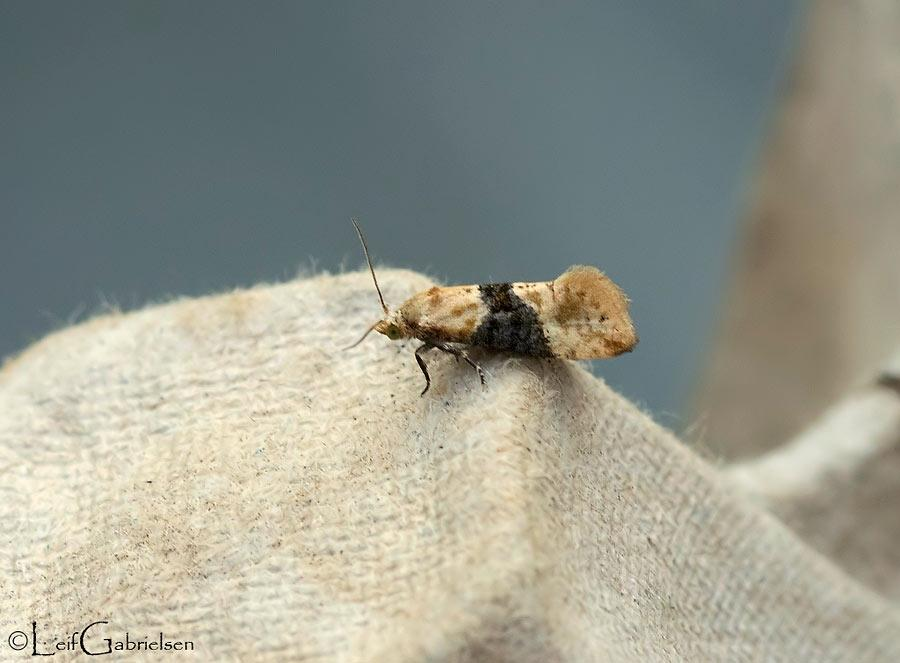Eupoecilia Ambiguella: (340, 215, 640, 401)
